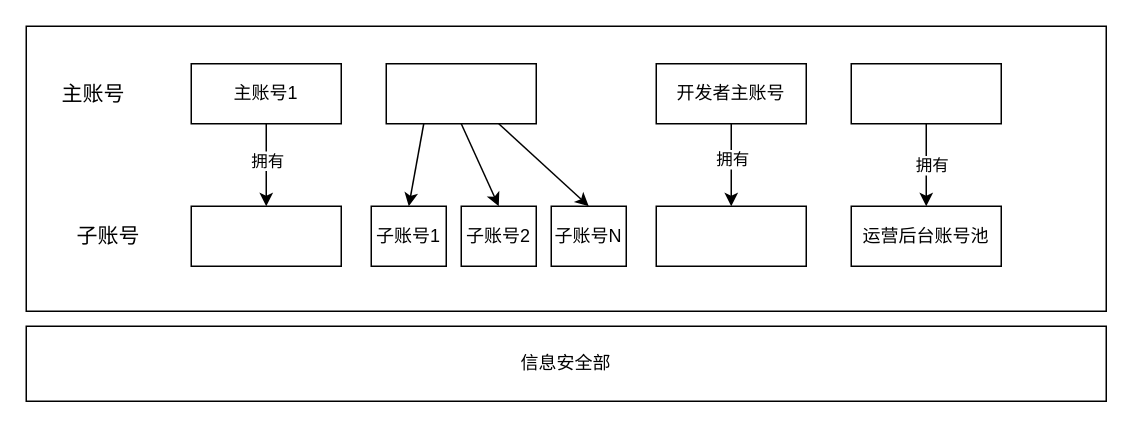
The diagram is 1133 pixels wide and 428 high, and some of its shapes have lost their labels. Each missing label, with the centre of its shape:
"主账号2" belongs at [460,93].
"子账号池1" belongs at [265,235].
"开发者账号池" belongs at [730,235].
"运营后台主账号" belongs at [925,93].
